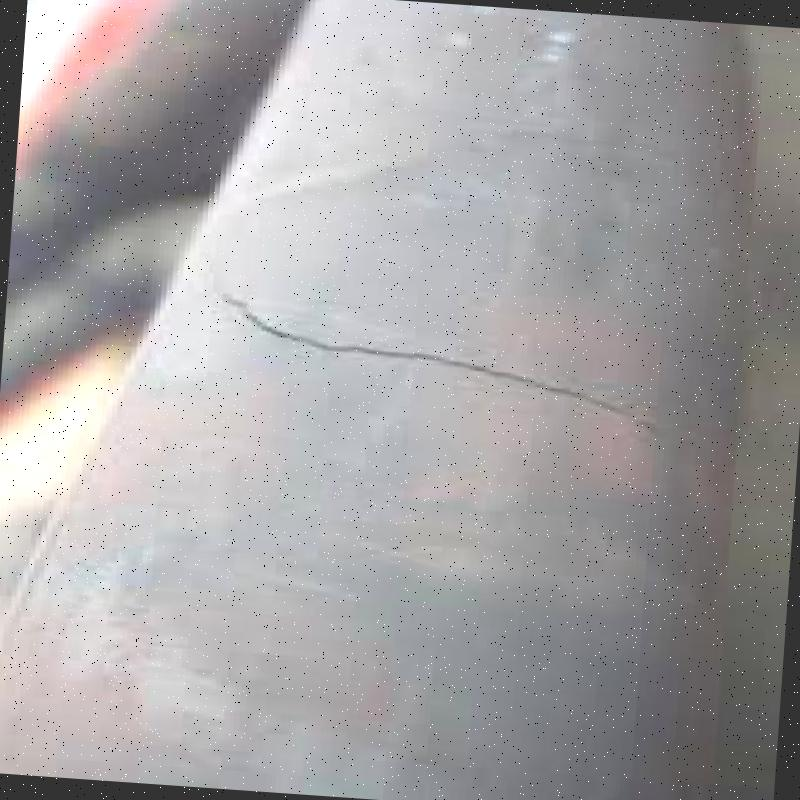Fracture: (485, 368, 662, 412), (212, 295, 332, 350), (322, 332, 485, 370)
